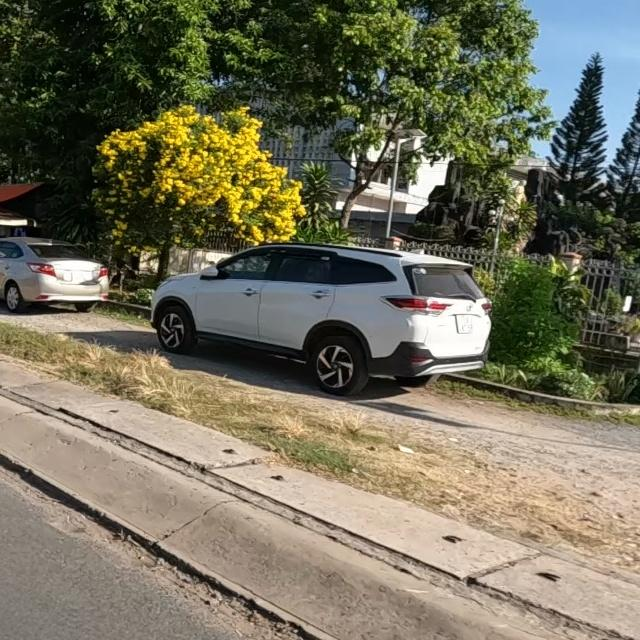license-plate: (455, 314, 477, 334)
